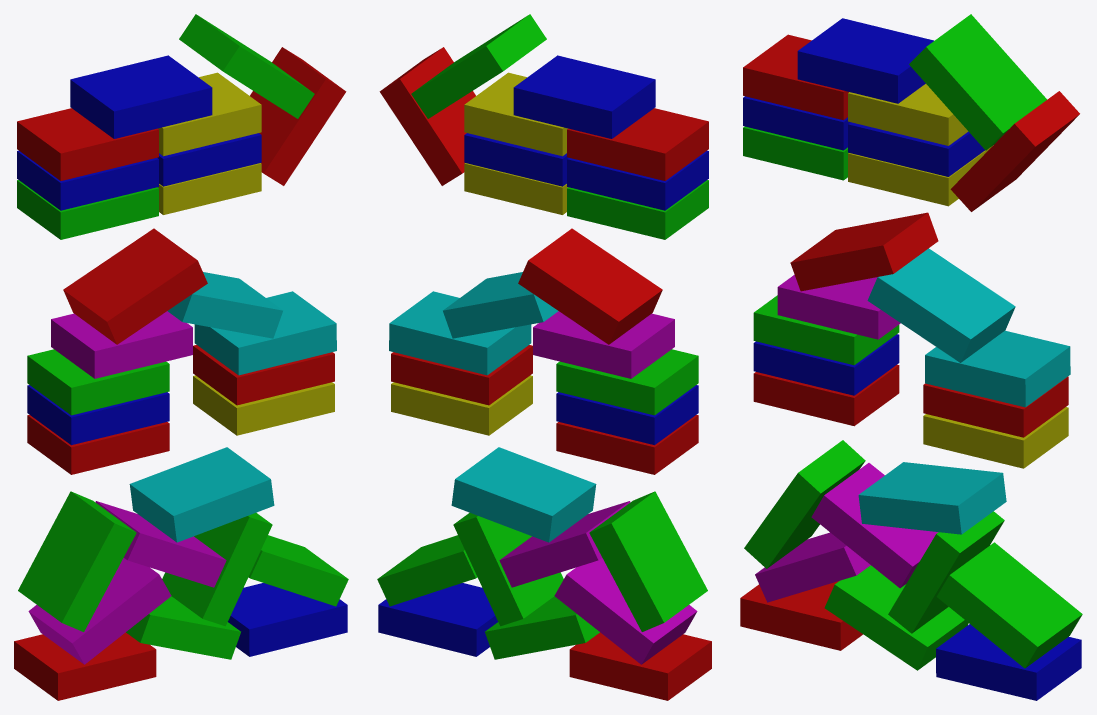
The model's file is Livre n°2.fbx.
3 renders of one model, left to right at view 1: azimuth 30°, elevation 25°; view 2: azimuth 150°, elevation 25°; view 3: azimuth 330°, elevation 25°, orthographic. The views are drawn at different scales.
Parts seen in each view (by area): view 1: Cube.002; view 2: Cube.002; view 3: Cube.002.
Part boxes in pixels (x1,y1,x2,y2): Cube.002: [14, 14, 348, 700]; Cube.002: [377, 14, 711, 700]; Cube.002: [740, 14, 1082, 700].
Bounding box in the file's own units: 326 × 657 × 85.31.
